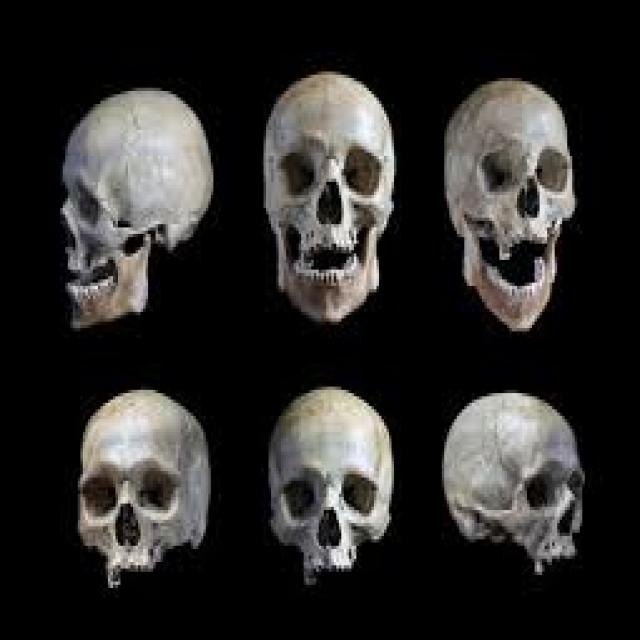skull: (57, 82, 221, 334)
